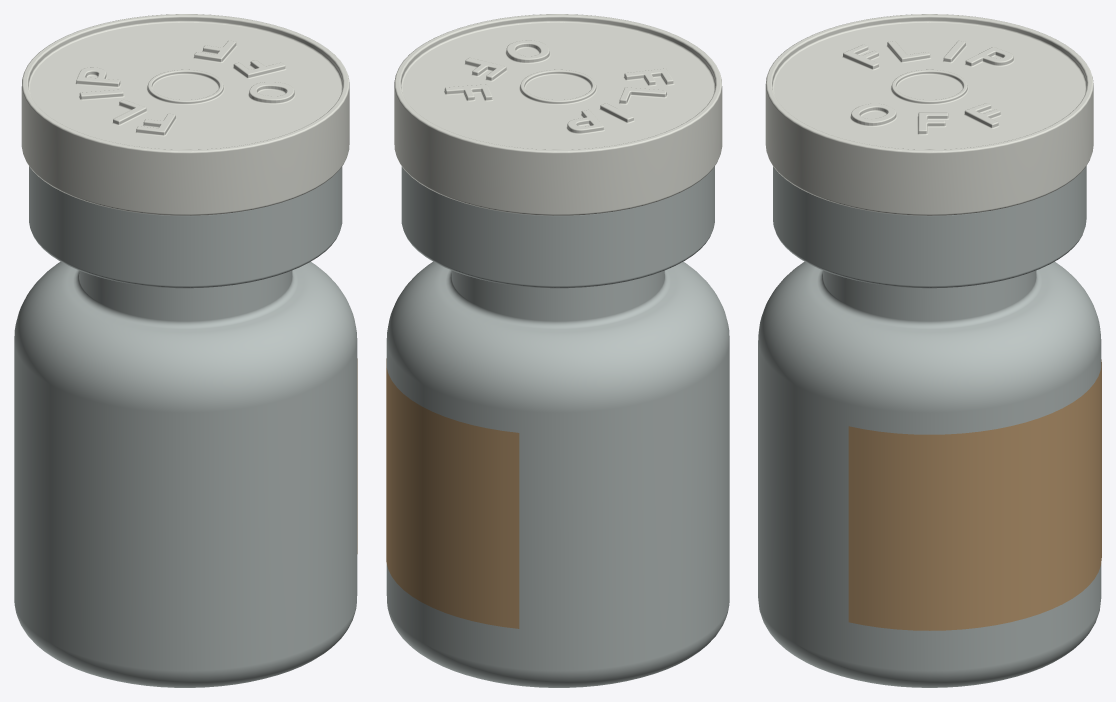
Rendered from bottle_laboratory_c01.glb.
3 views of the same model, side by side, from view 1: azimuth 30°, elevation 25°; view 2: azimuth 150°, elevation 25°; view 3: azimuth 270°, elevation 25° (orthographic).
Size of the model in its own units: 0.0288 by 0.0502 by 0.0288.
